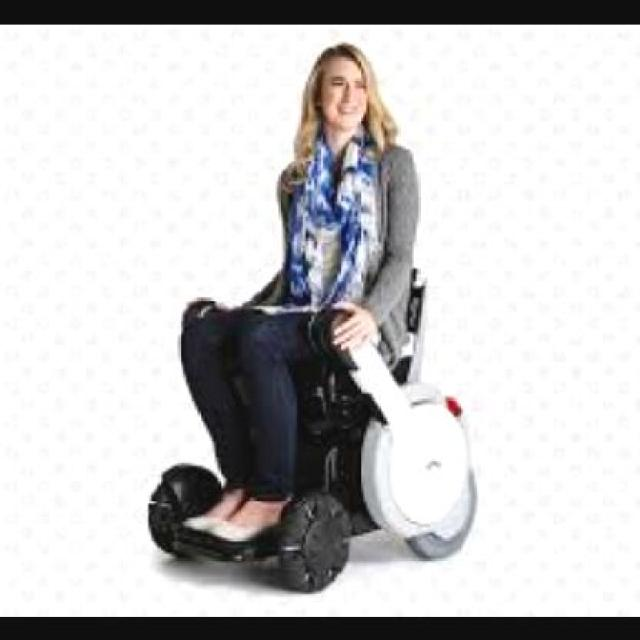wheelchairs: (134, 223, 491, 599)
